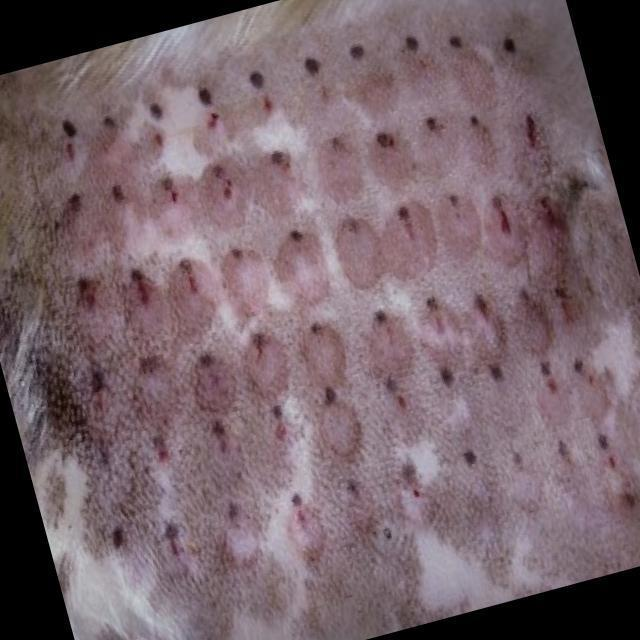allergic dermatitis: (62, 235, 318, 342), (336, 188, 574, 272), (75, 329, 338, 400), (45, 178, 310, 237), (361, 300, 574, 367), (335, 45, 506, 116), (43, 106, 242, 156), (323, 127, 498, 181)
